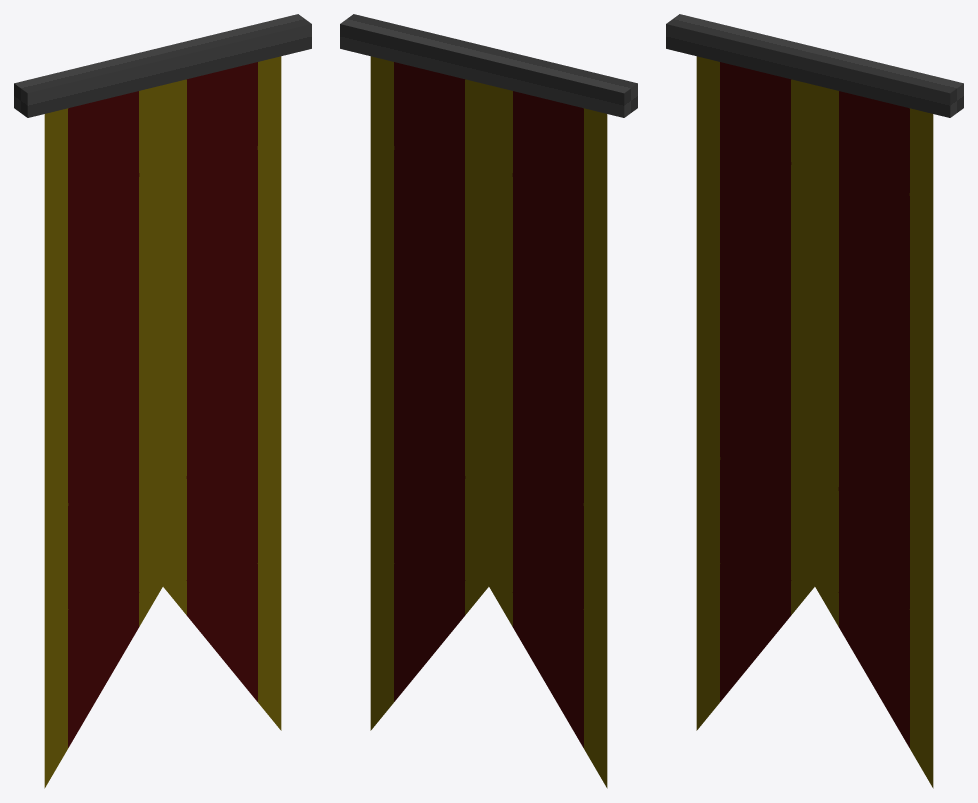
The model's file is Banner.fbx.
3 renders of one model, left to right at view 1: azimuth 30°, elevation 25°; view 2: azimuth 150°, elevation 25°; view 3: azimuth 330°, elevation 25°, orthographic.
Parts seen in each view (by area): view 1: cuboid; view 2: cuboid; view 3: cuboid.
Part boxes in pixels (x1,y1,x2,y2): cuboid: (14,14,311,788); cuboid: (340,14,637,788); cuboid: (666,14,963,788).
Bounding box in the file's own units: 37.5 × 89.06 × 3.12.
Materials: 1 (1 with a texture image).
